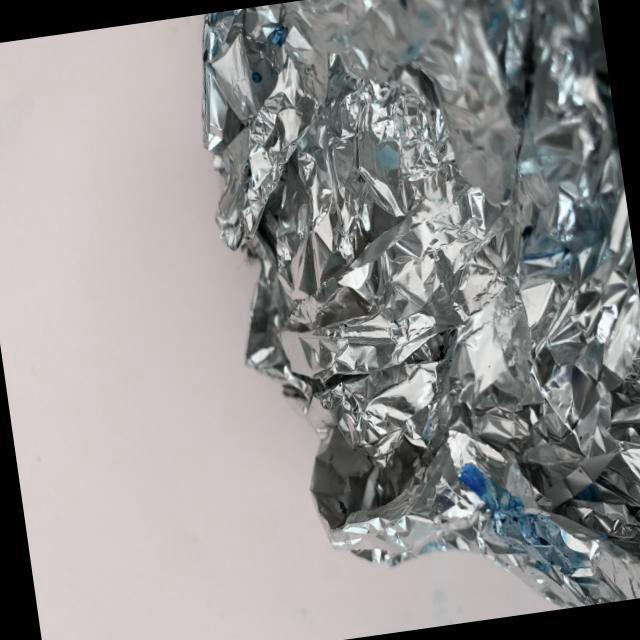metal: (177, 0, 640, 640)
